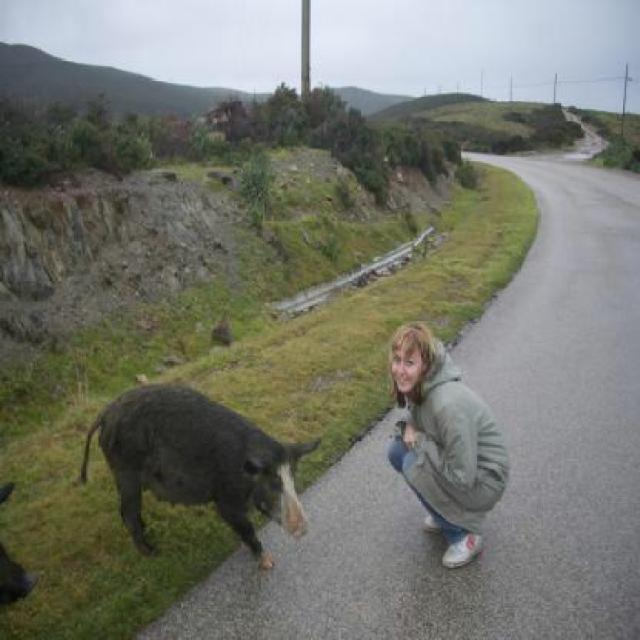Boar: (78, 382, 322, 570), (0, 478, 38, 612)
